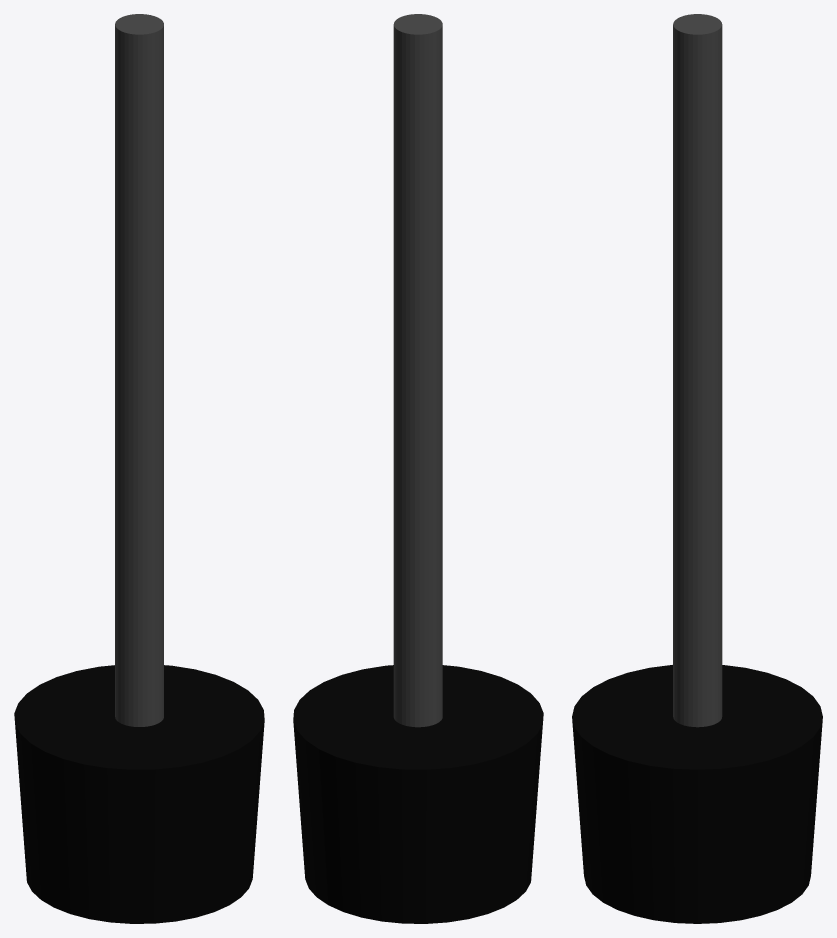
The model's file is planeThrottle.obj.
3 views of the same model, side by side, from view 1: azimuth 30°, elevation 25°; view 2: azimuth 150°, elevation 25°; view 3: azimuth 270°, elevation 25° (orthographic).
Parts seen in each view (by area): view 1: Cylinder.003; view 2: Cylinder.003; view 3: Cylinder.003.
Part boxes in pixels (box(x1,y1,x2,y2)): Cylinder.003: box(14, 14, 264, 923); Cylinder.003: box(293, 14, 543, 923); Cylinder.003: box(572, 14, 822, 923).
Size of the model in its own units: 9.14 by 34.27 by 9.14.
